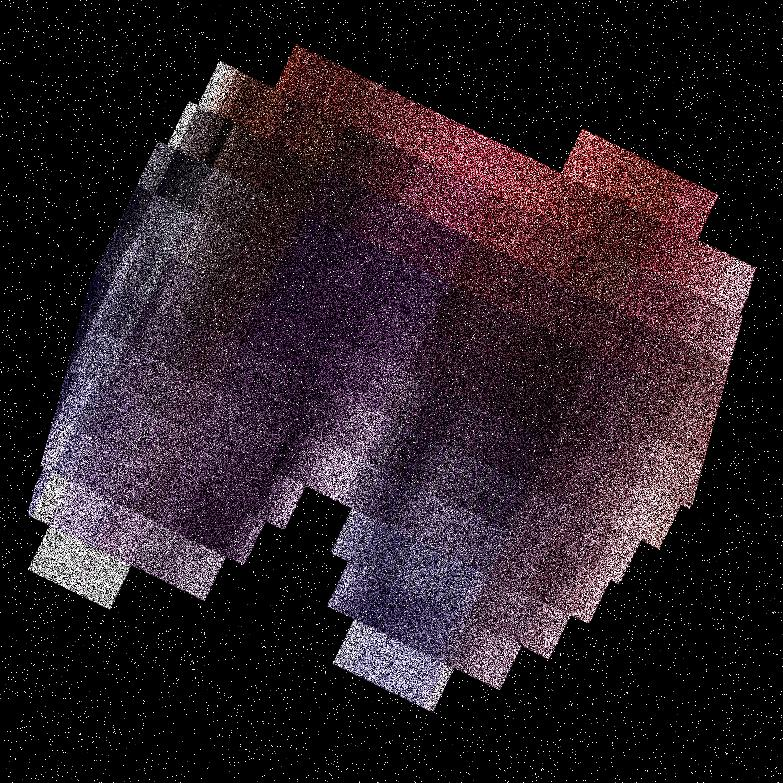Oculos: (237, 0, 782, 782)
